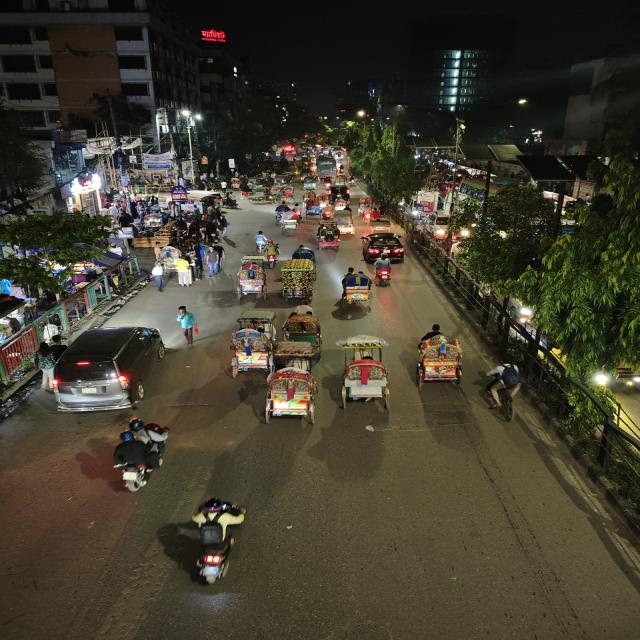bicycle: (252, 230, 270, 254)
bus: (0, 298, 45, 430), (315, 156, 337, 179)
car: (50, 322, 168, 415), (359, 231, 408, 263), (326, 186, 351, 203)
cng: (333, 208, 356, 232), (301, 175, 320, 190)
human_hauler: (188, 192, 222, 214)
motorcycle: (188, 494, 254, 588), (108, 418, 174, 498), (373, 256, 395, 288), (359, 205, 381, 224), (264, 242, 280, 268), (224, 192, 238, 209)
pedestrian: (478, 360, 524, 420), (174, 305, 199, 344), (173, 256, 196, 288), (207, 240, 227, 275), (151, 261, 171, 292)
rickshaw: (334, 333, 393, 411), (257, 365, 325, 429), (409, 321, 472, 389), (221, 326, 275, 380), (280, 306, 327, 359), (277, 251, 319, 303), (232, 256, 270, 298), (340, 268, 376, 312), (315, 220, 344, 254), (315, 222, 343, 254), (278, 212, 303, 236), (270, 187, 298, 204), (243, 191, 269, 206), (305, 198, 322, 216)
